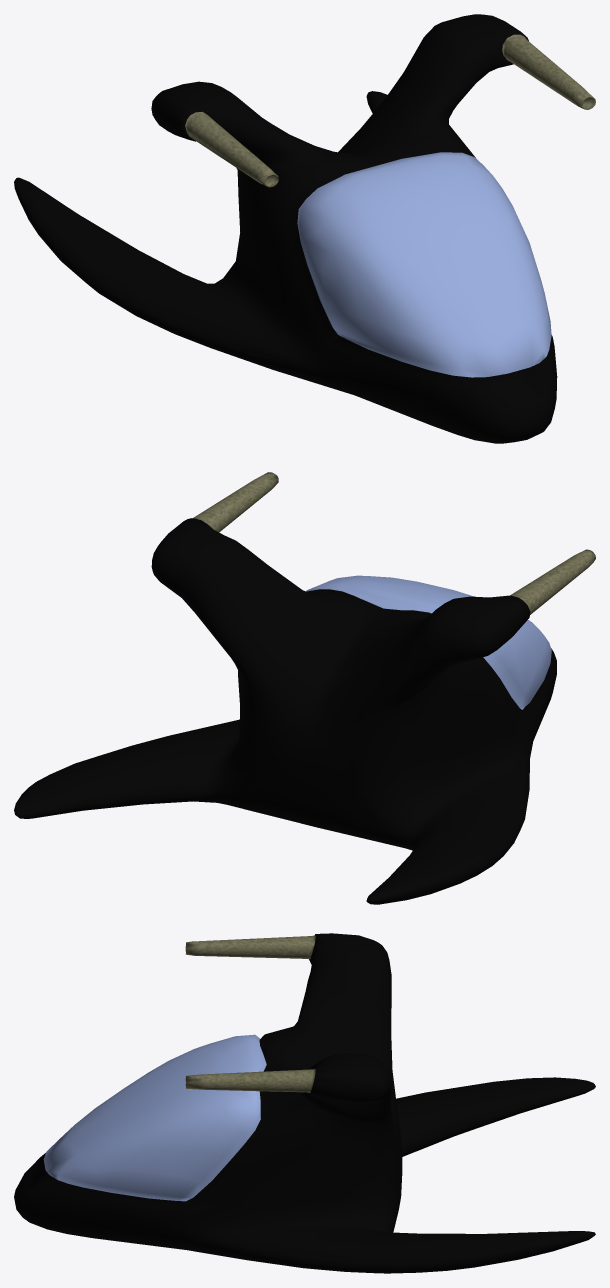
The model's file is ship_low_poly.glb.
The picture shows the model from 3 angles, top to bottom: view 1: azimuth 30°, elevation 25°; view 2: azimuth 150°, elevation 25°; view 3: azimuth 270°, elevation 25°; orthographic projection. The views are drawn at different scales.
Parts seen in each view (by area): view 1: ship; view 2: ship; view 3: ship.
Part boxes in pixels (<box>): ship: <box>14,14,595,443</box>; ship: <box>14,472,595,904</box>; ship: <box>14,933,595,1273</box>.
Size of the model in its own units: 4.31 by 2.63 by 6.13.
Materials: 3 (3 with a texture image).
